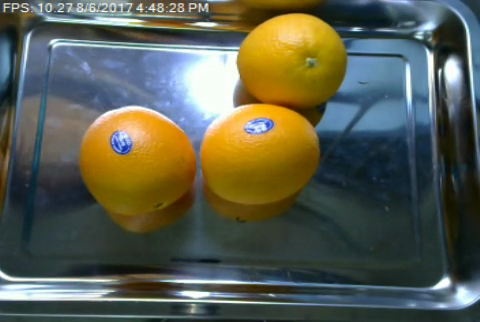Orange: (78, 105, 195, 214), (199, 102, 319, 204), (239, 12, 347, 105)
